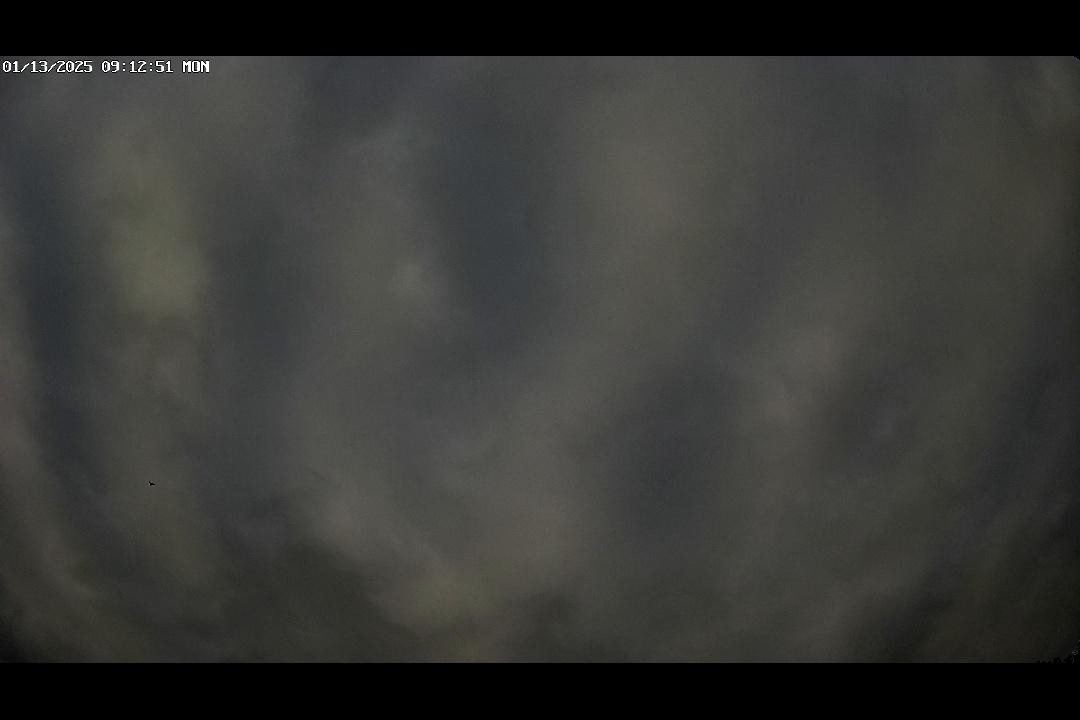WildLife: (142, 480, 160, 490)
